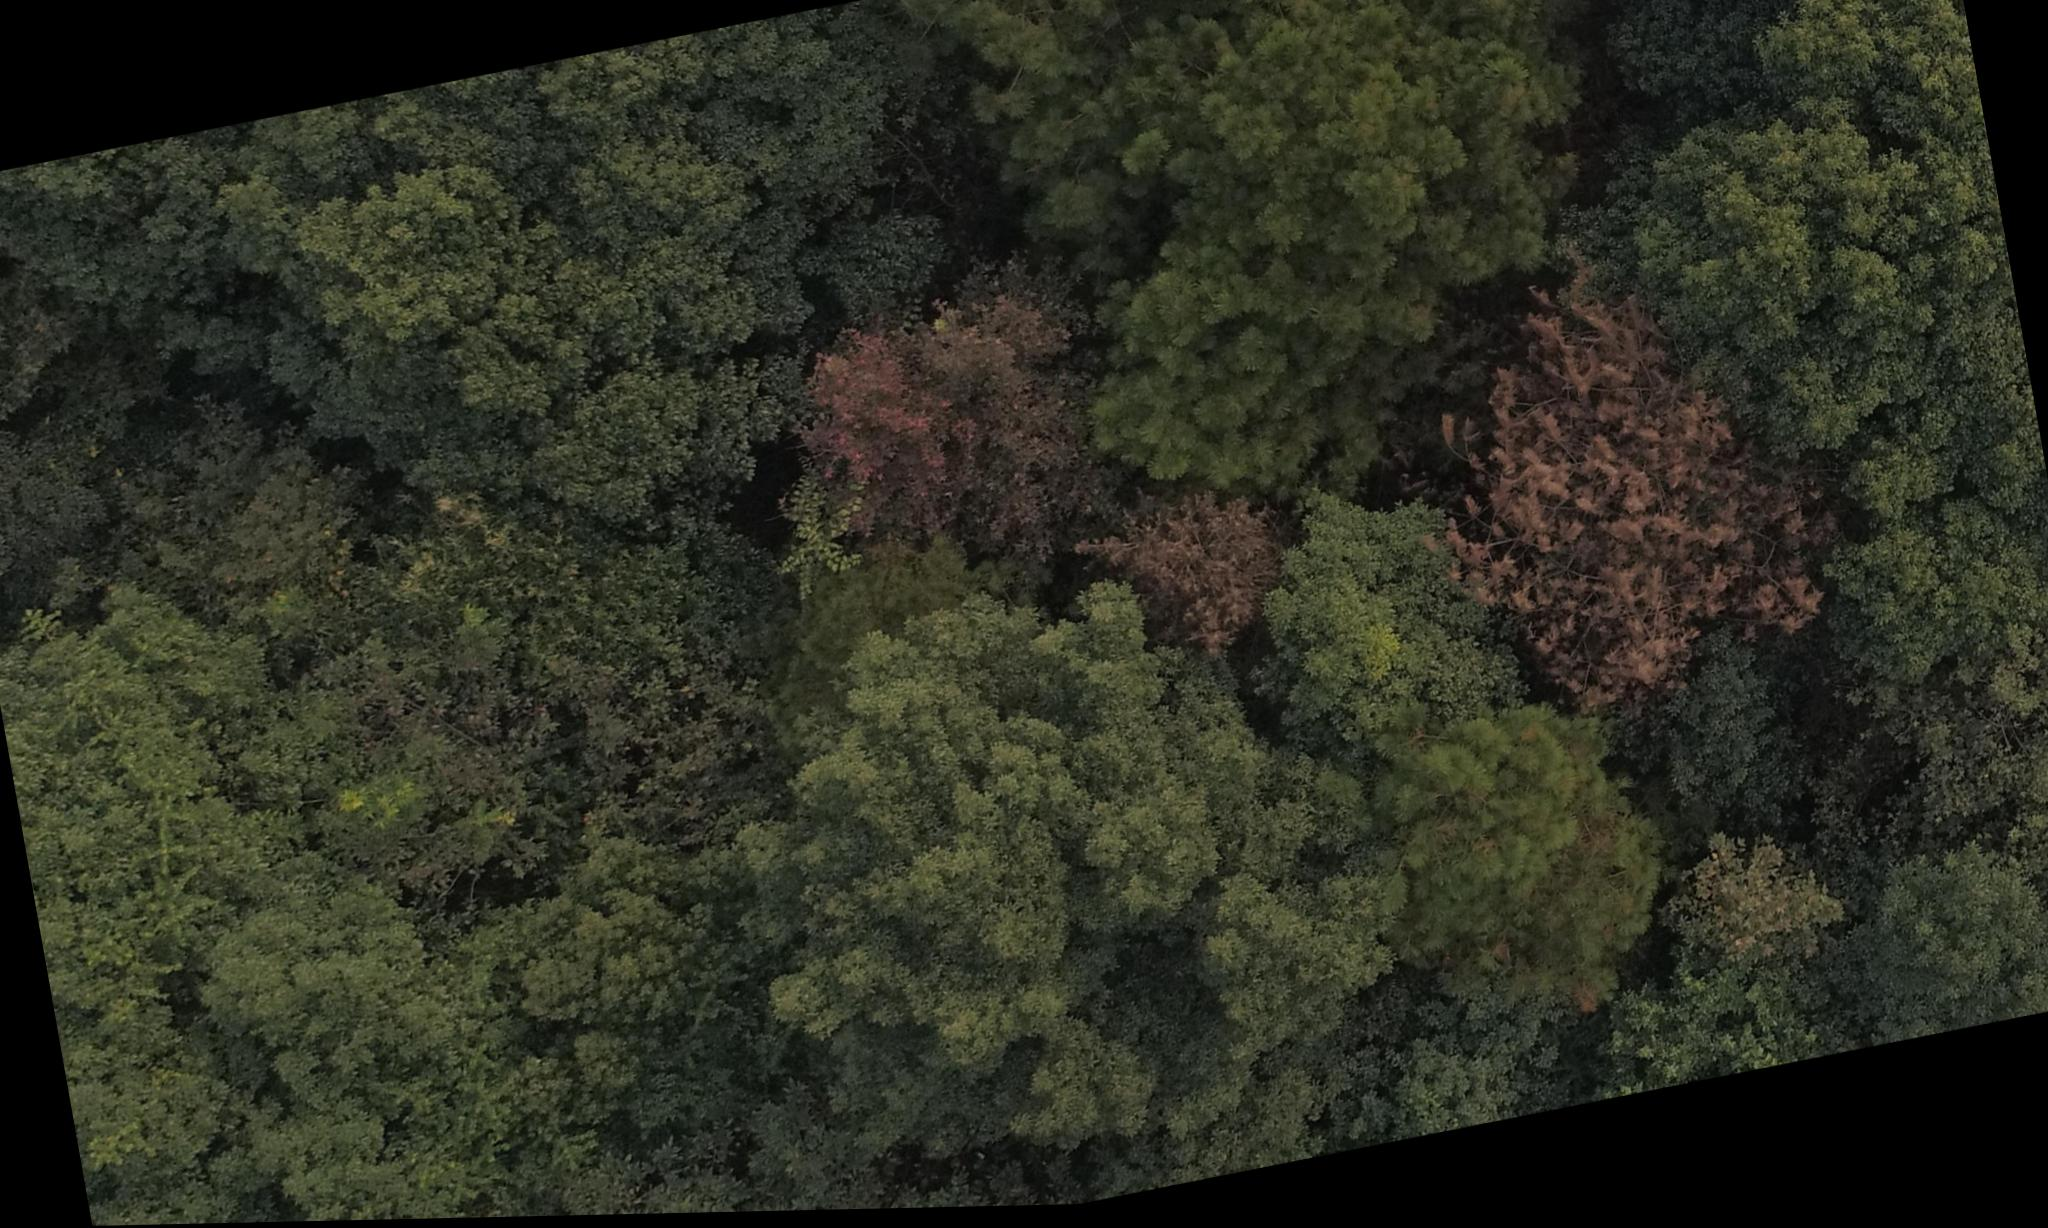heavy: (1419, 232, 1835, 744), (1096, 468, 1298, 677)
